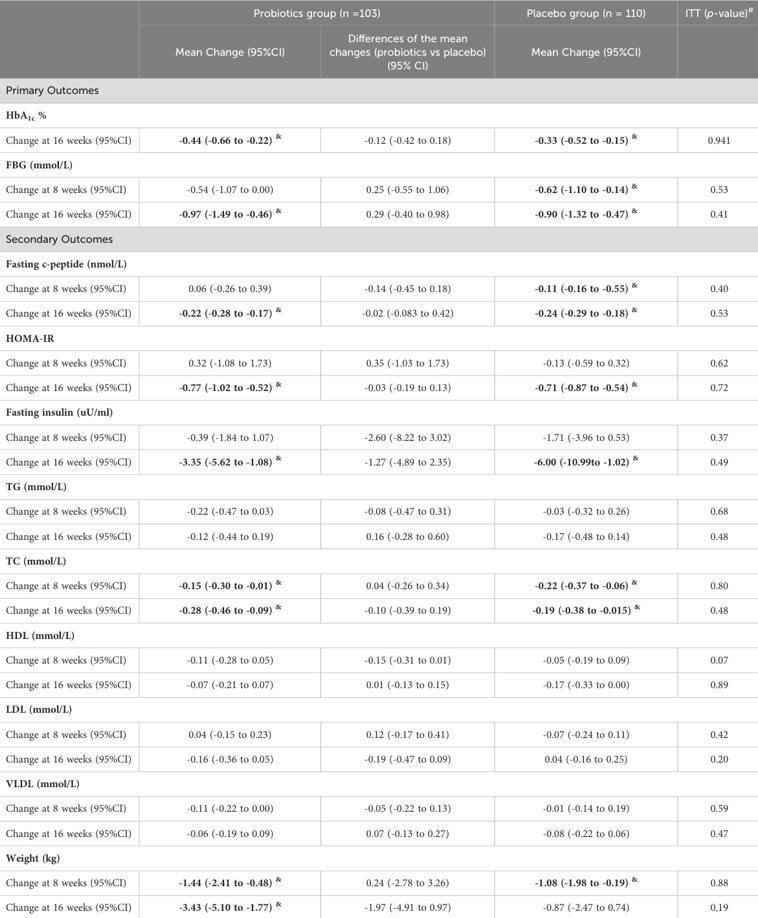table: (5, 5, 752, 913)
table column: (306, 5, 505, 913), (505, 5, 664, 913), (152, 5, 306, 913), (5, 5, 152, 913), (664, 5, 752, 913)
table column header: (5, 5, 752, 77)
table projected row header: (5, 77, 752, 102), (5, 325, 752, 350), (5, 399, 752, 424), (5, 473, 752, 498), (5, 622, 752, 647), (5, 696, 752, 721), (5, 770, 752, 795), (5, 102, 752, 126), (5, 151, 752, 175), (5, 226, 752, 250), (5, 250, 752, 274), (5, 548, 752, 572), (5, 845, 752, 869)
table row: (5, 25, 752, 77), (5, 200, 752, 226), (5, 299, 752, 325), (5, 373, 752, 399), (5, 596, 752, 622), (5, 77, 752, 102), (5, 126, 752, 151), (5, 175, 752, 200), (5, 274, 752, 299), (5, 325, 752, 350), (5, 399, 752, 424), (5, 448, 752, 473), (5, 473, 752, 498), (5, 498, 752, 523), (5, 523, 752, 548), (5, 622, 752, 647), (5, 647, 752, 672), (5, 696, 752, 721), (5, 721, 752, 746), (5, 770, 752, 795), (5, 795, 752, 820), (5, 820, 752, 845), (5, 102, 752, 126), (5, 151, 752, 175), (5, 226, 752, 250), (5, 250, 752, 274), (5, 424, 752, 448), (5, 548, 752, 572), (5, 572, 752, 596), (5, 672, 752, 696), (5, 746, 752, 770), (5, 845, 752, 869), (5, 869, 752, 893), (5, 350, 752, 373), (5, 5, 752, 25), (5, 893, 752, 913)
table spanning cell: (505, 5, 664, 77), (152, 5, 505, 25), (664, 5, 752, 77)
